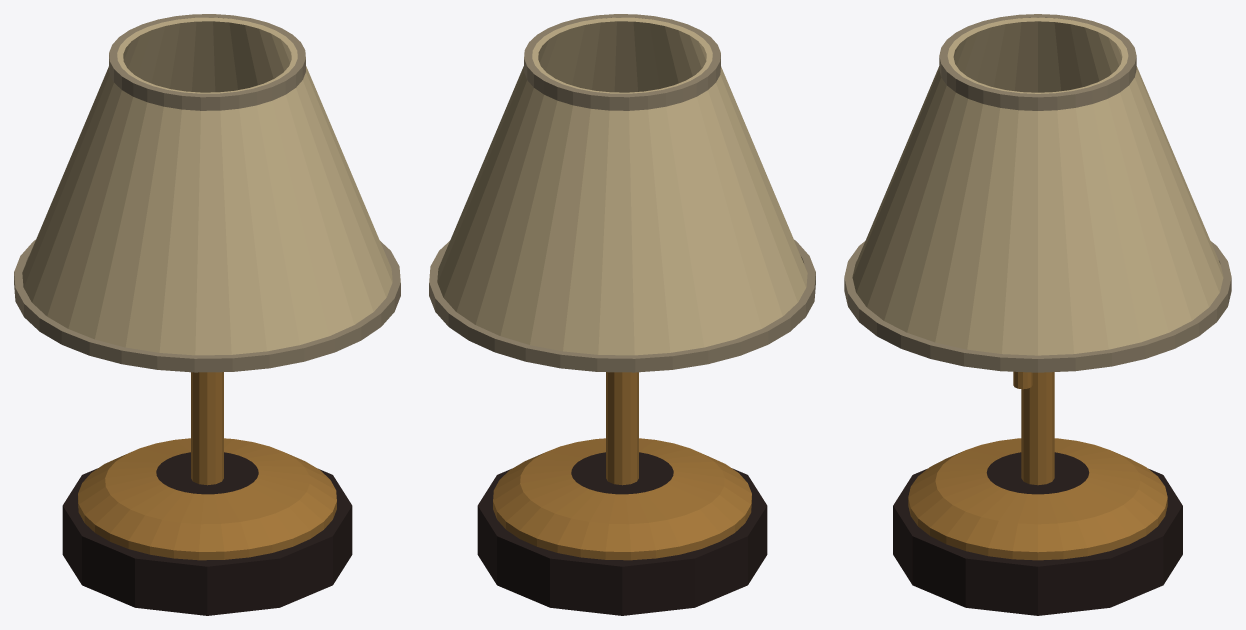
File: BedsideLamp.glb
The picture shows the model from 3 angles, left to right: view 1: azimuth 30°, elevation 25°; view 2: azimuth 150°, elevation 25°; view 3: azimuth 270°, elevation 25°; orthographic projection.
Parts seen in each view (by area): view 1: FabricShade, BrassBase, DarkBase, ShadeBinding, ShadeBinding.001, LampStem; view 2: FabricShade, BrassBase, DarkBase, ShadeBinding, ShadeBinding.001, LampStem; view 3: FabricShade, BrassBase, DarkBase, ShadeBinding, ShadeBinding.001, LampStem.
Boxes of the visible parts, box(x1,y1,x2,y2) form: FabricShade: box(22, 17, 392, 355); BrassBase: box(78, 438, 336, 560); DarkBase: box(62, 452, 352, 615); ShadeBinding: box(14, 239, 400, 372); ShadeBinding.001: box(109, 14, 305, 110); LampStem: box(191, 372, 223, 485); FabricShade: box(437, 17, 807, 355); BrassBase: box(493, 438, 751, 560); DarkBase: box(477, 452, 767, 615); ShadeBinding: box(429, 239, 815, 372); ShadeBinding.001: box(524, 14, 720, 110); LampStem: box(606, 372, 638, 485); FabricShade: box(852, 17, 1223, 355); BrassBase: box(908, 438, 1167, 560); DarkBase: box(893, 452, 1182, 615); ShadeBinding: box(844, 241, 1231, 372); ShadeBinding.001: box(939, 14, 1136, 110); LampStem: box(1021, 372, 1054, 485).
Bounding box in the file's own units: 1.28 × 1.83 × 1.28.
